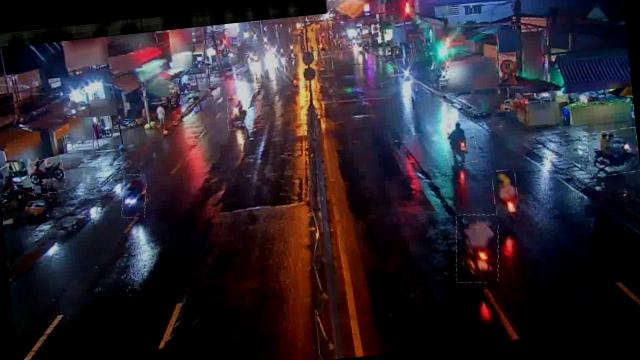Bike: (452, 212, 502, 286), (586, 127, 640, 178), (441, 118, 479, 166), (28, 156, 68, 196), (492, 169, 521, 222), (119, 173, 148, 219), (226, 96, 249, 130), (397, 57, 413, 84)
